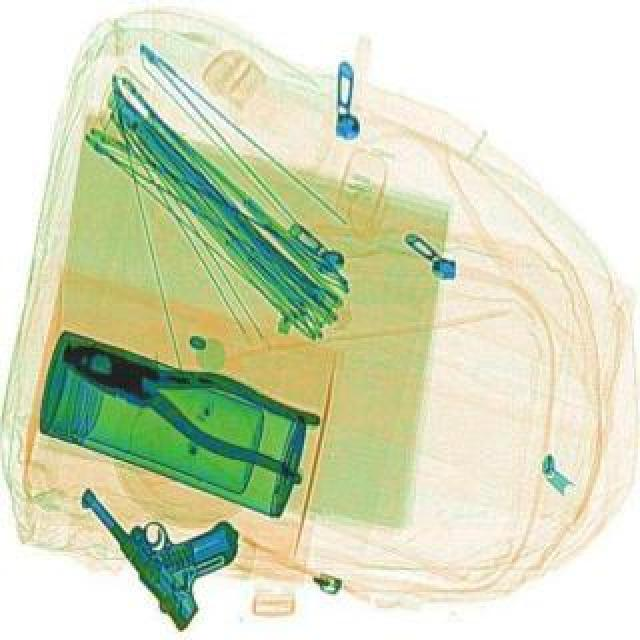gun: (70, 436, 270, 628)
wrench: (44, 318, 330, 482)
